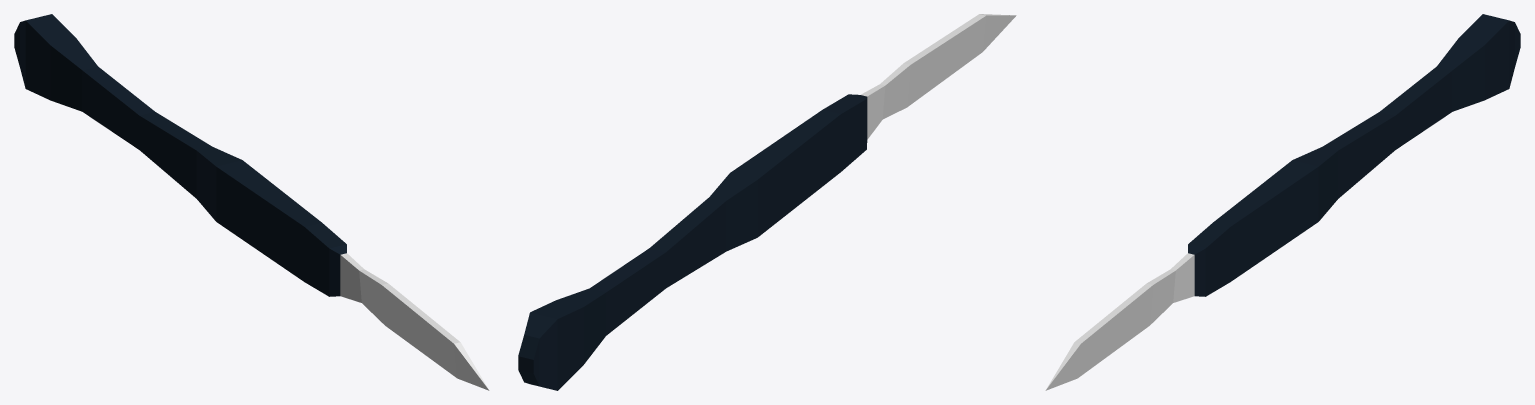
The model's file is scalpel.fbx.
The picture shows the model from 3 angles, left to right: view 1: azimuth 30°, elevation 25°; view 2: azimuth 150°, elevation 25°; view 3: azimuth 330°, elevation 25°; orthographic projection. The views are drawn at different scales.
Visible parts, largest first — view 1: Cube; view 2: Cube; view 3: Cube.
Boxes of the visible parts, bbox=[...] form: Cube: bbox=[14, 14, 489, 390]; Cube: bbox=[518, 14, 1016, 390]; Cube: bbox=[1045, 14, 1520, 390].
Size of the model in its own units: 80 by 198 by 2455.
